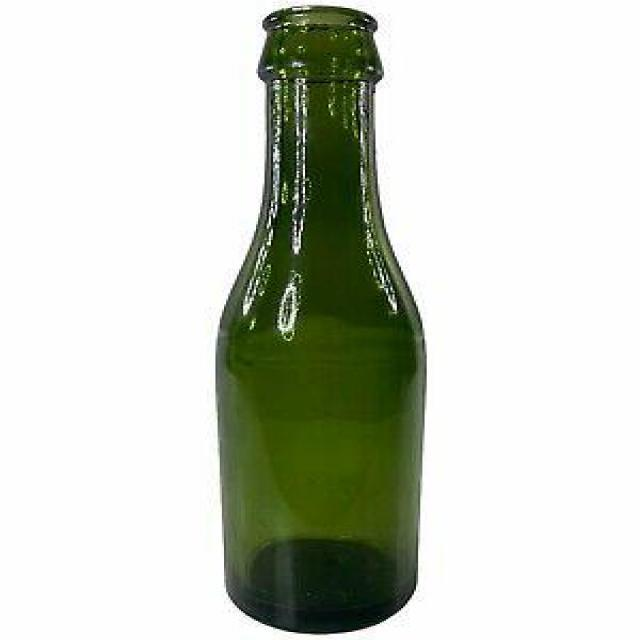glass: (210, 3, 424, 640)
